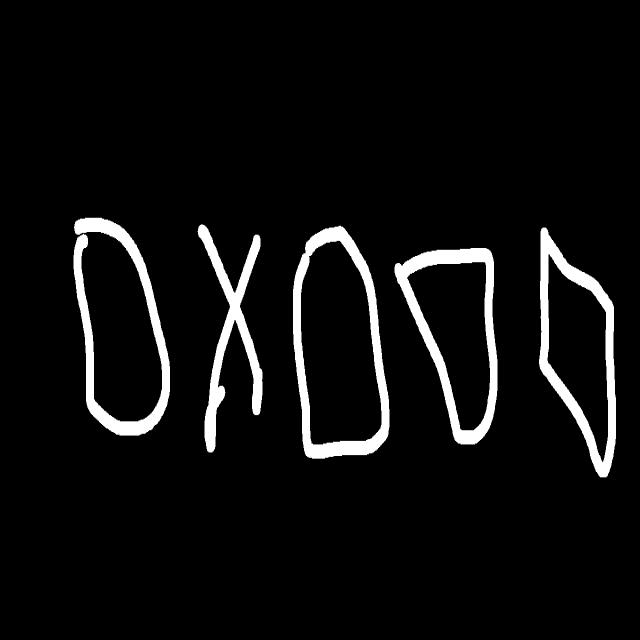Circle: (74, 219, 170, 435)
Cross: (198, 225, 262, 452)
Diamond: (539, 228, 616, 476)
Square: (294, 228, 390, 458)
Triangle: (394, 248, 497, 444)
